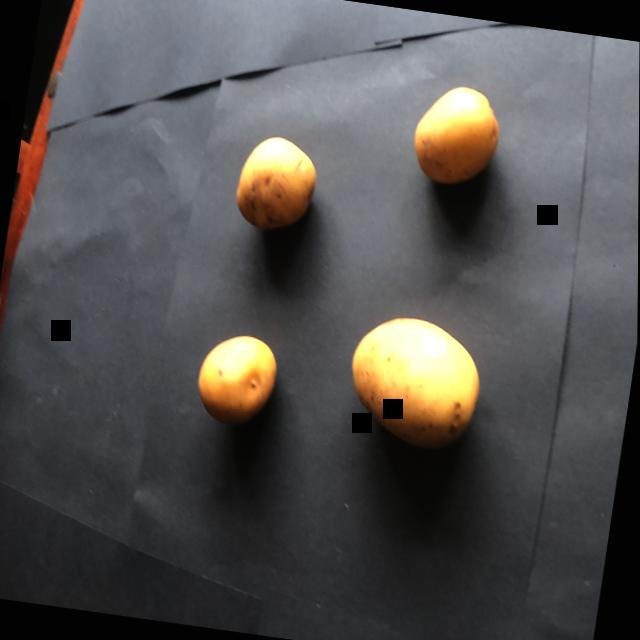Potato: (310, 282, 502, 482), (389, 61, 521, 217), (226, 104, 337, 238), (176, 318, 293, 440)
